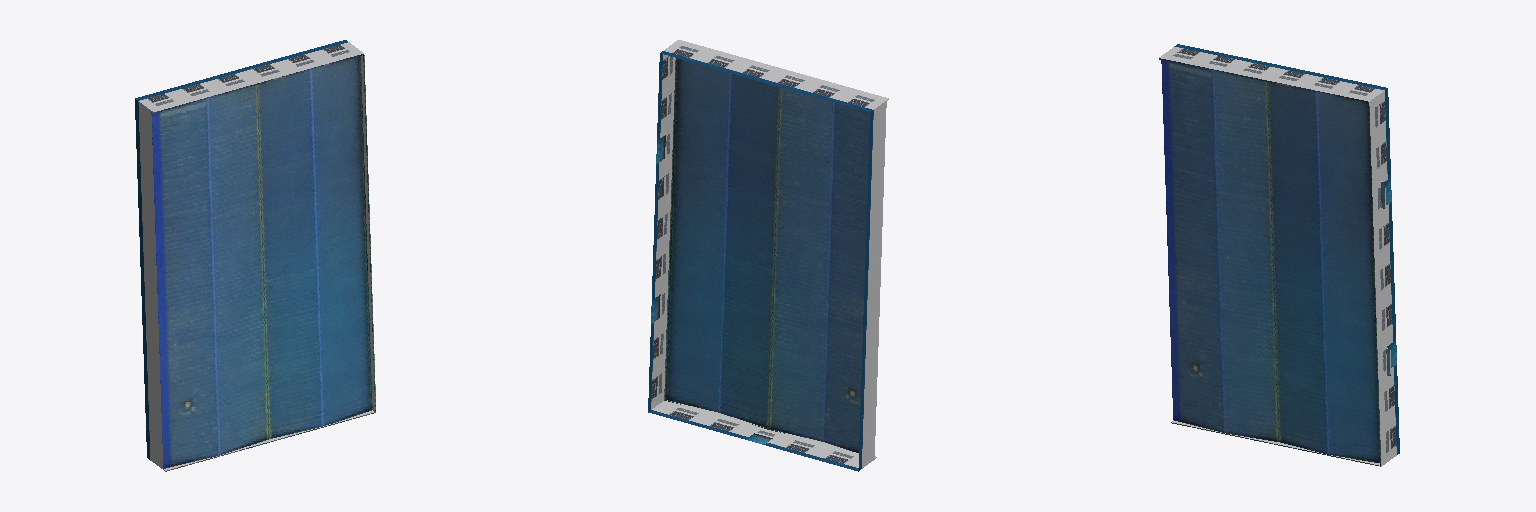
The picture shows the model from 3 angles: view 1: azimuth 30°, elevation 25°; view 2: azimuth 150°, elevation 25°; view 3: azimuth 330°, elevation 25°; orthographic projection.
Visible parts, largest first — view 1: Group_MatrixTransform_i94b051_Geometry_7, Group_MatrixTransform_i94b051_Geometry_5, Group_MatrixTransform_i94b051_Geometry_1, Group_MatrixTransform_i94b051_Geometry_6, Group_MatrixTransform_i94b051_Geometry_8; view 2: Group_MatrixTransform_i94b051_Geometry_7, Group_MatrixTransform_i94b051_Geometry_1, Group_MatrixTransform_i94b051_Geometry_5, Group_MatrixTransform_i94b051_Geometry_0, Group_MatrixTransform_i94b051_Geometry_6; view 3: Group_MatrixTransform_i94b051_Geometry_7, Group_MatrixTransform_i94b051_Geometry_1, Group_MatrixTransform_i94b051_Geometry_6, Group_MatrixTransform_i94b051_Geometry_0, Group_MatrixTransform_i94b051_Geometry_8.
Part boxes in pixels (x1,y1,x2,y2): Group_MatrixTransform_i94b051_Geometry_7: (151,56,372,468); Group_MatrixTransform_i94b051_Geometry_5: (135,99,162,468); Group_MatrixTransform_i94b051_Geometry_1: (135,40,361,110); Group_MatrixTransform_i94b051_Geometry_6: (151,52,374,471); Group_MatrixTransform_i94b051_Geometry_8: (154,54,375,471); Group_MatrixTransform_i94b051_Geometry_7: (664,58,869,452); Group_MatrixTransform_i94b051_Geometry_1: (648,41,886,470); Group_MatrixTransform_i94b051_Geometry_5: (858,101,886,471); Group_MatrixTransform_i94b051_Geometry_0: (651,122,788,446); Group_MatrixTransform_i94b051_Geometry_6: (666,40,888,458); Group_MatrixTransform_i94b051_Geometry_7: (1161,60,1379,462); Group_MatrixTransform_i94b051_Geometry_1: (1162,44,1399,464); Group_MatrixTransform_i94b051_Geometry_6: (1159,56,1390,466); Group_MatrixTransform_i94b051_Geometry_0: (1375,169,1396,383); Group_MatrixTransform_i94b051_Geometry_8: (1159,58,1380,466).
Bounding box in the file's own units: 52.04 × 82.55 × 7.7.
Materials: 9 (9 with a texture image).